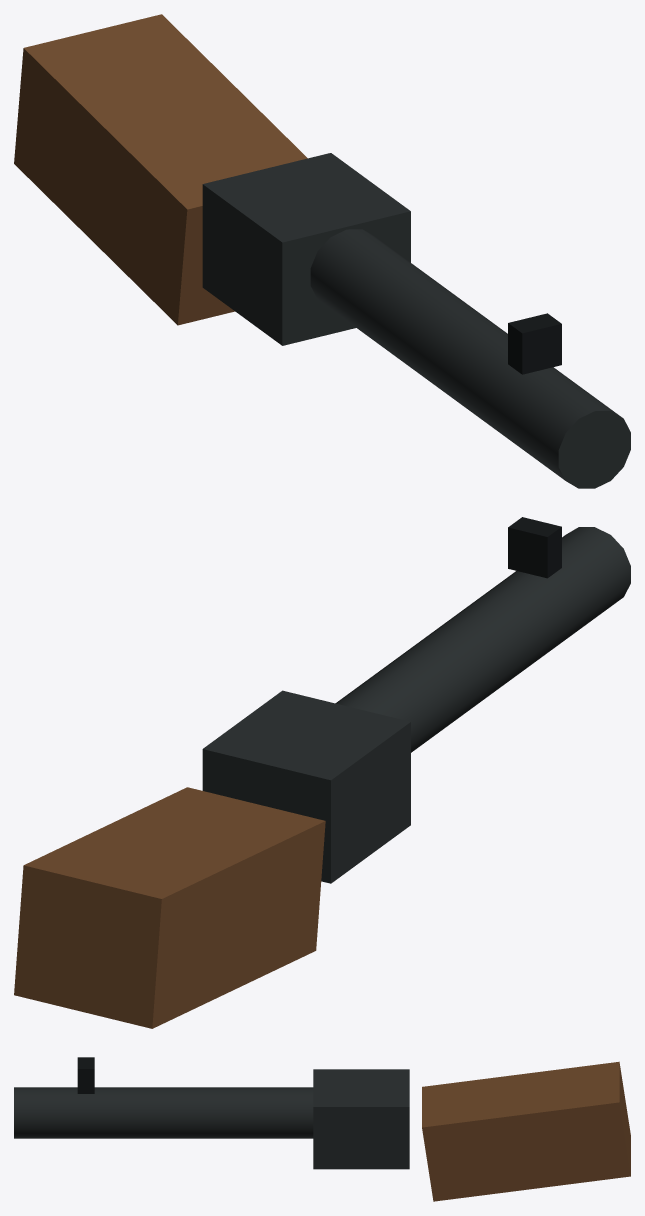
File: m79-grenade-launcher.glb
3 renders of one model, top to bottom at view 1: azimuth 30°, elevation 25°; view 2: azimuth 150°, elevation 25°; view 3: azimuth 270°, elevation 25°, orthographic. The views are drawn at different scales.
Visible parts, largest first — view 1: stock, barrel, receiver, frontSight; view 2: stock, receiver, barrel, frontSight; view 3: stock, barrel, receiver, frontSight.
Boxes of the visible parts, x1,y1,x2,y2 form: stock: [14, 14, 307, 325]; barrel: [310, 229, 630, 488]; receiver: [202, 153, 410, 345]; frontSight: [508, 313, 561, 374]; stock: [14, 787, 325, 1028]; receiver: [202, 690, 410, 883]; barrel: [335, 527, 630, 752]; frontSight: [508, 517, 561, 578]; stock: [422, 1061, 630, 1201]; barrel: [14, 1087, 313, 1138]; receiver: [313, 1069, 409, 1169]; frontSight: [77, 1057, 94, 1093].
Bounding box in the file's own units: 0.28 × 0.3792 × 1.79.
